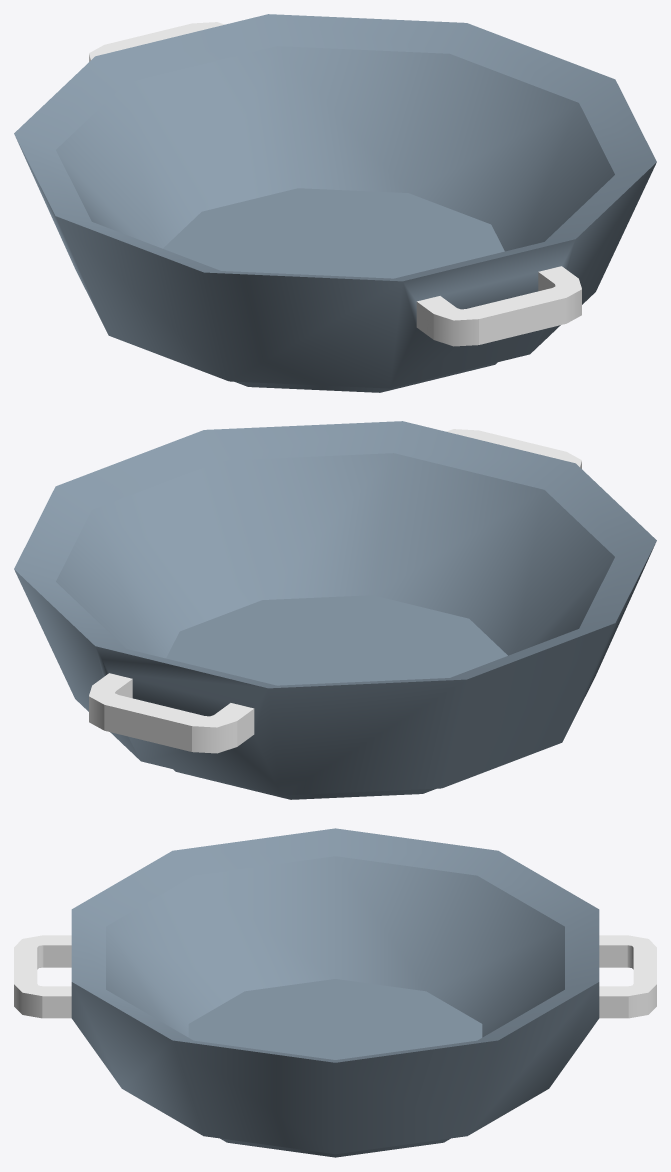
File: Pan.glb
3 renders of one model, top to bottom at view 1: azimuth 30°, elevation 25°; view 2: azimuth 150°, elevation 25°; view 3: azimuth 270°, elevation 25°, orthographic. The views are drawn at different scales.
Visible parts, largest first — view 1: pan; view 2: pan; view 3: pan.
Boxes of the visible parts, x1,y1,x2,y2 form: pan: [14, 14, 656, 392]; pan: [14, 421, 656, 799]; pan: [14, 828, 656, 1157].
Size of the model in its own units: 0.6574 by 0.1753 by 0.7621.
